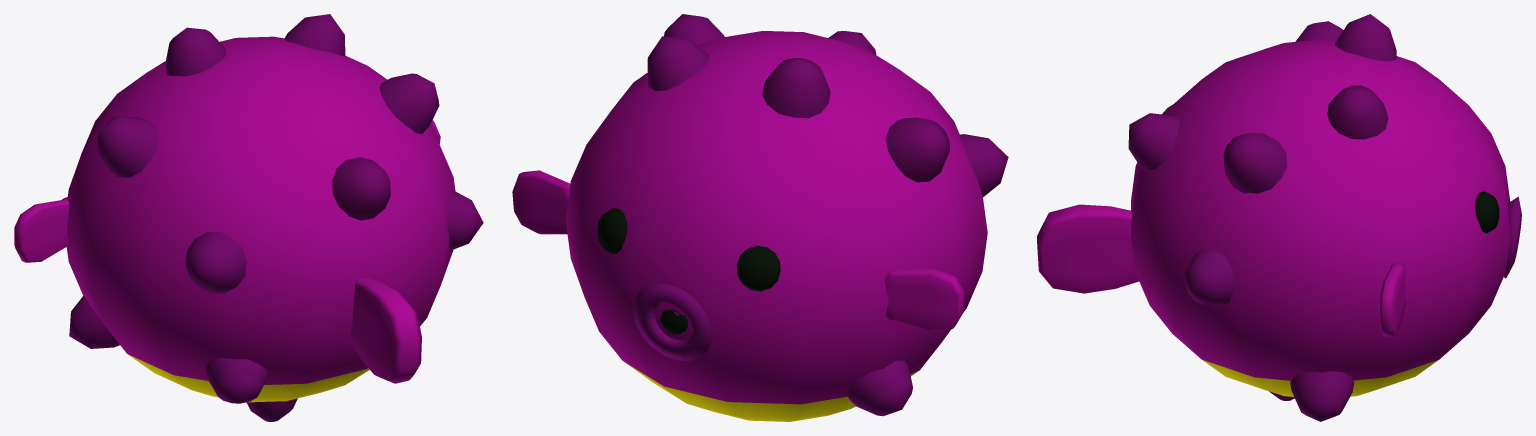
File: EnemyNatureFishBallLow.fbx
3 views of the same model, side by side, from view 1: azimuth 30°, elevation 25°; view 2: azimuth 150°, elevation 25°; view 3: azimuth 270°, elevation 25° (orthographic). The views are drawn at different scales.
Parts seen in each view (by area): view 1: FishBall9; view 2: FishBall9; view 3: FishBall9.
Boxes of the visible parts, x1,y1,x2,y2 form: FishBall9: [14, 14, 483, 421]; FishBall9: [512, 14, 1008, 421]; FishBall9: [1037, 14, 1521, 421].
Bounding box in the file's own units: 2.46 × 2.07 × 2.49.
